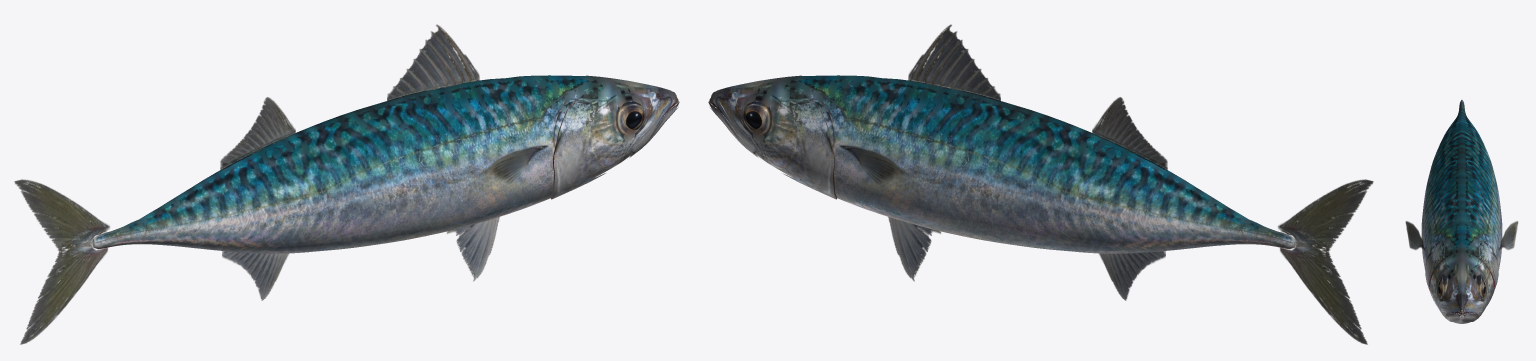
The model's file is saba.glb.
The picture shows the model from 3 angles, left to right: view 1: azimuth 30°, elevation 25°; view 2: azimuth 150°, elevation 25°; view 3: azimuth 270°, elevation 25°; orthographic projection. The views are drawn at different scales.
Parts seen in each view (by area): view 1: saba; view 2: saba; view 3: saba.
Boxes of the visible parts, bbox=[...] form: saba: bbox=[14, 24, 679, 344]; saba: bbox=[708, 24, 1373, 344]; saba: bbox=[1405, 100, 1518, 323].
Bounding box in the file's own units: 0.3509 × 0.1341 × 0.0737.
1 material, 1 textured.
